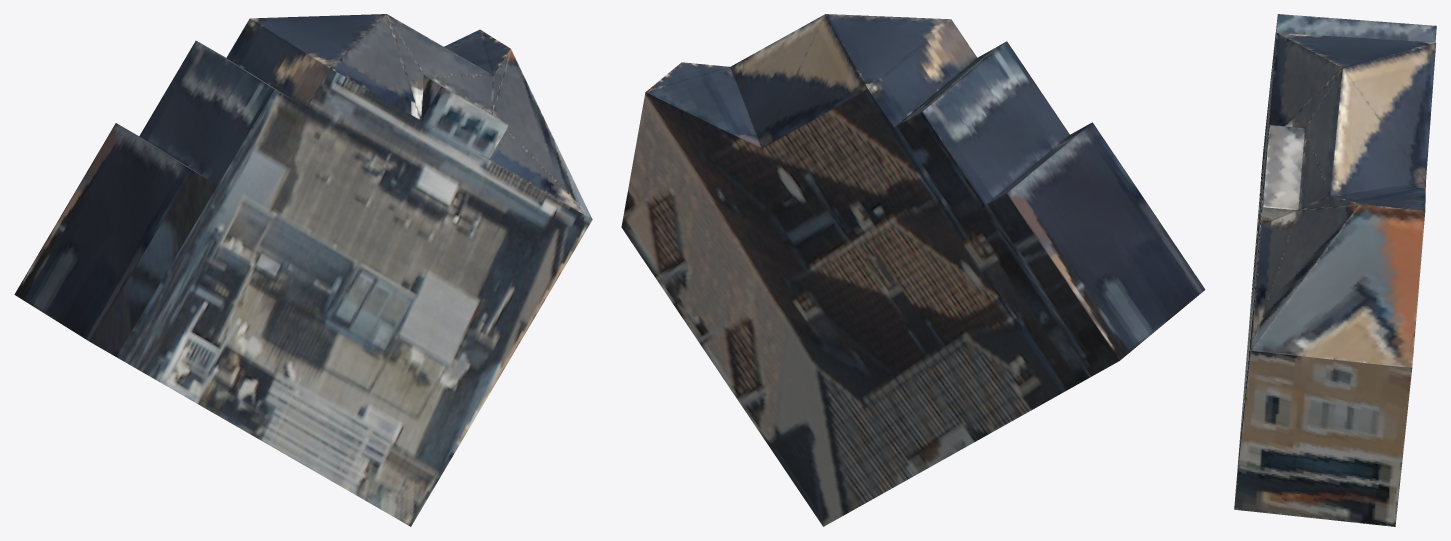
3 renders of one model, left to right at view 1: azimuth 30°, elevation 25°; view 2: azimuth 150°, elevation 25°; view 3: azimuth 270°, elevation 25°, orthographic. The views are drawn at different scales.
Visible parts, largest first — view 1: BAG_0599100000671718 (×5); view 2: BAG_0599100000671718 (×5); view 3: BAG_0599100000671718 (×5).
Part boxes in pixels (bbox=[...]): BAG_0599100000671718 (×5): bbox=[14, 14, 592, 526]; BAG_0599100000671718 (×5): bbox=[621, 14, 1205, 526]; BAG_0599100000671718 (×5): bbox=[1234, 14, 1436, 526].
Size of the model in its own units: 18.32 by 16.76 by 6.55.
6 materials, 6 textured.
